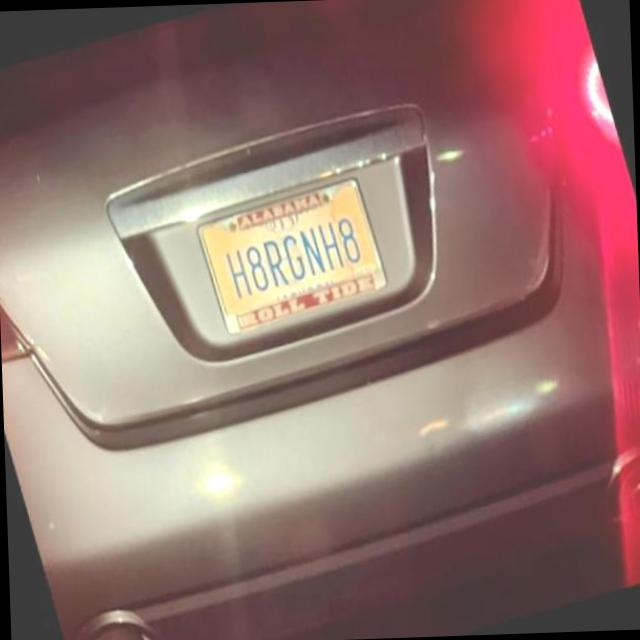LicensePlate: (193, 175, 387, 334)
